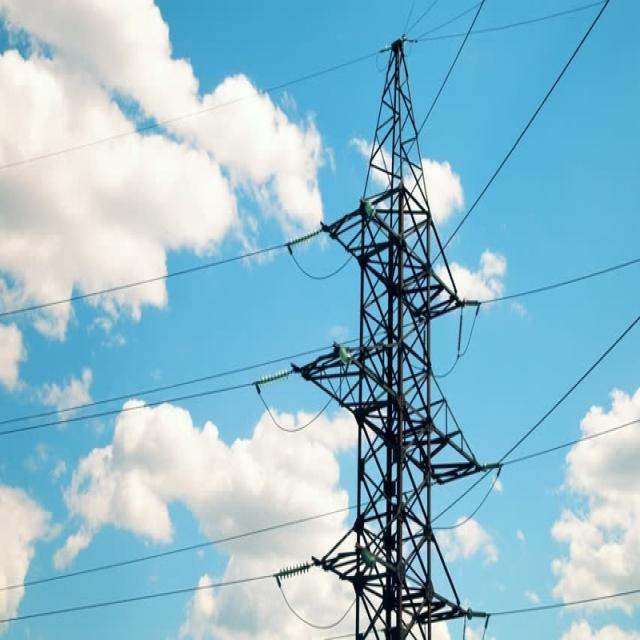non-critical vegetation: (276, 16, 499, 632)
